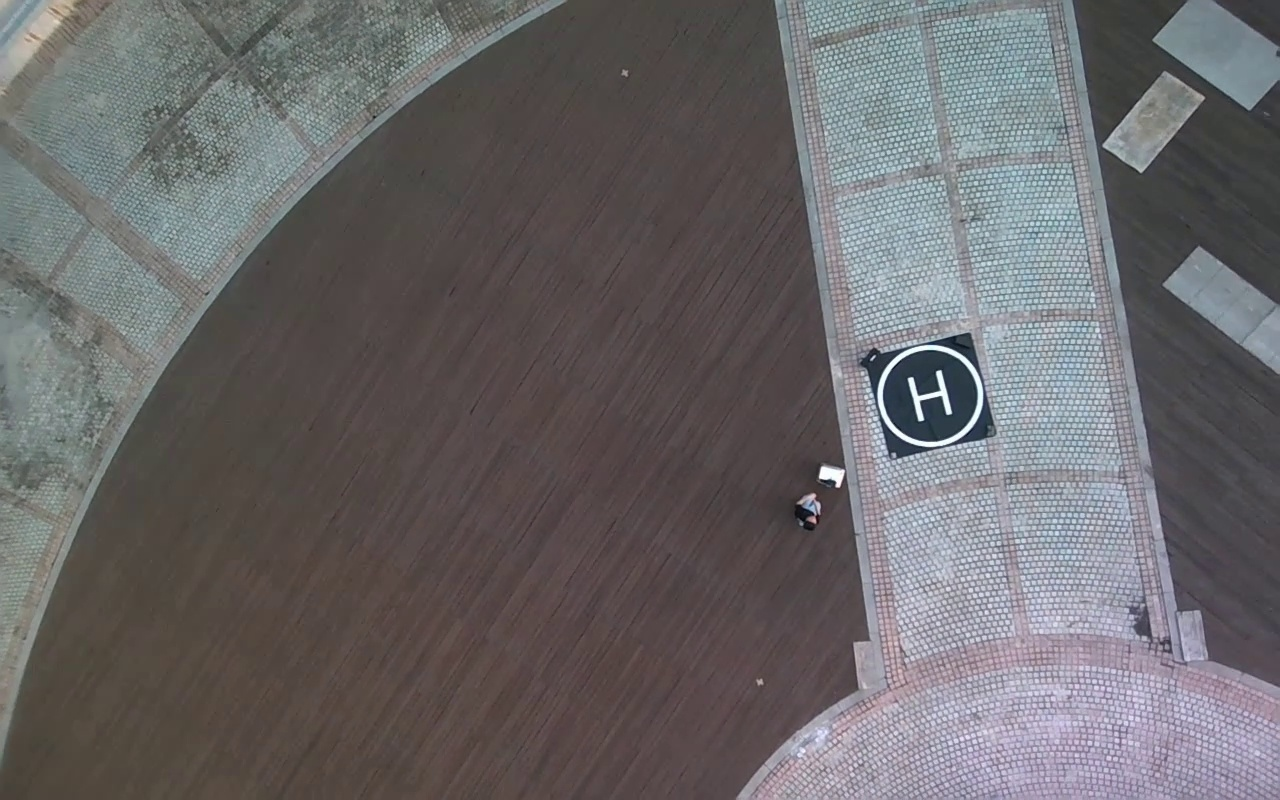H: (906, 366, 953, 421)
heliport: (876, 347, 983, 446)
